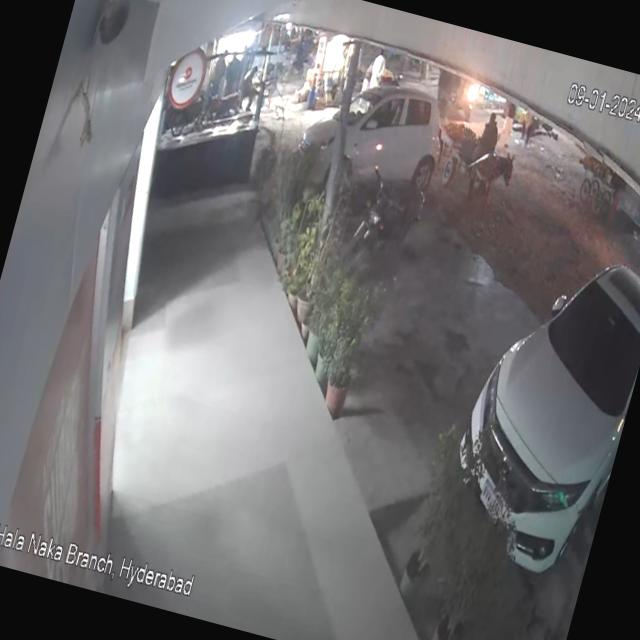Car: (428, 218, 640, 602), (288, 66, 470, 226)
Motorcycle: (334, 154, 431, 280)
